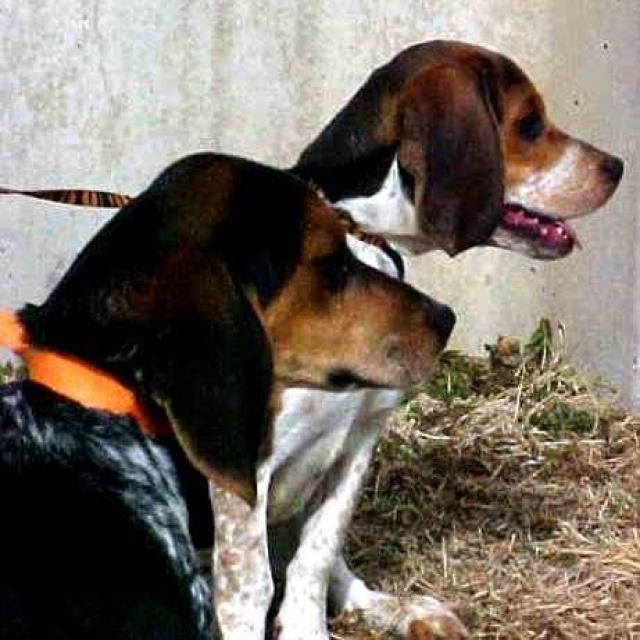dog: (0, 148, 466, 638)
